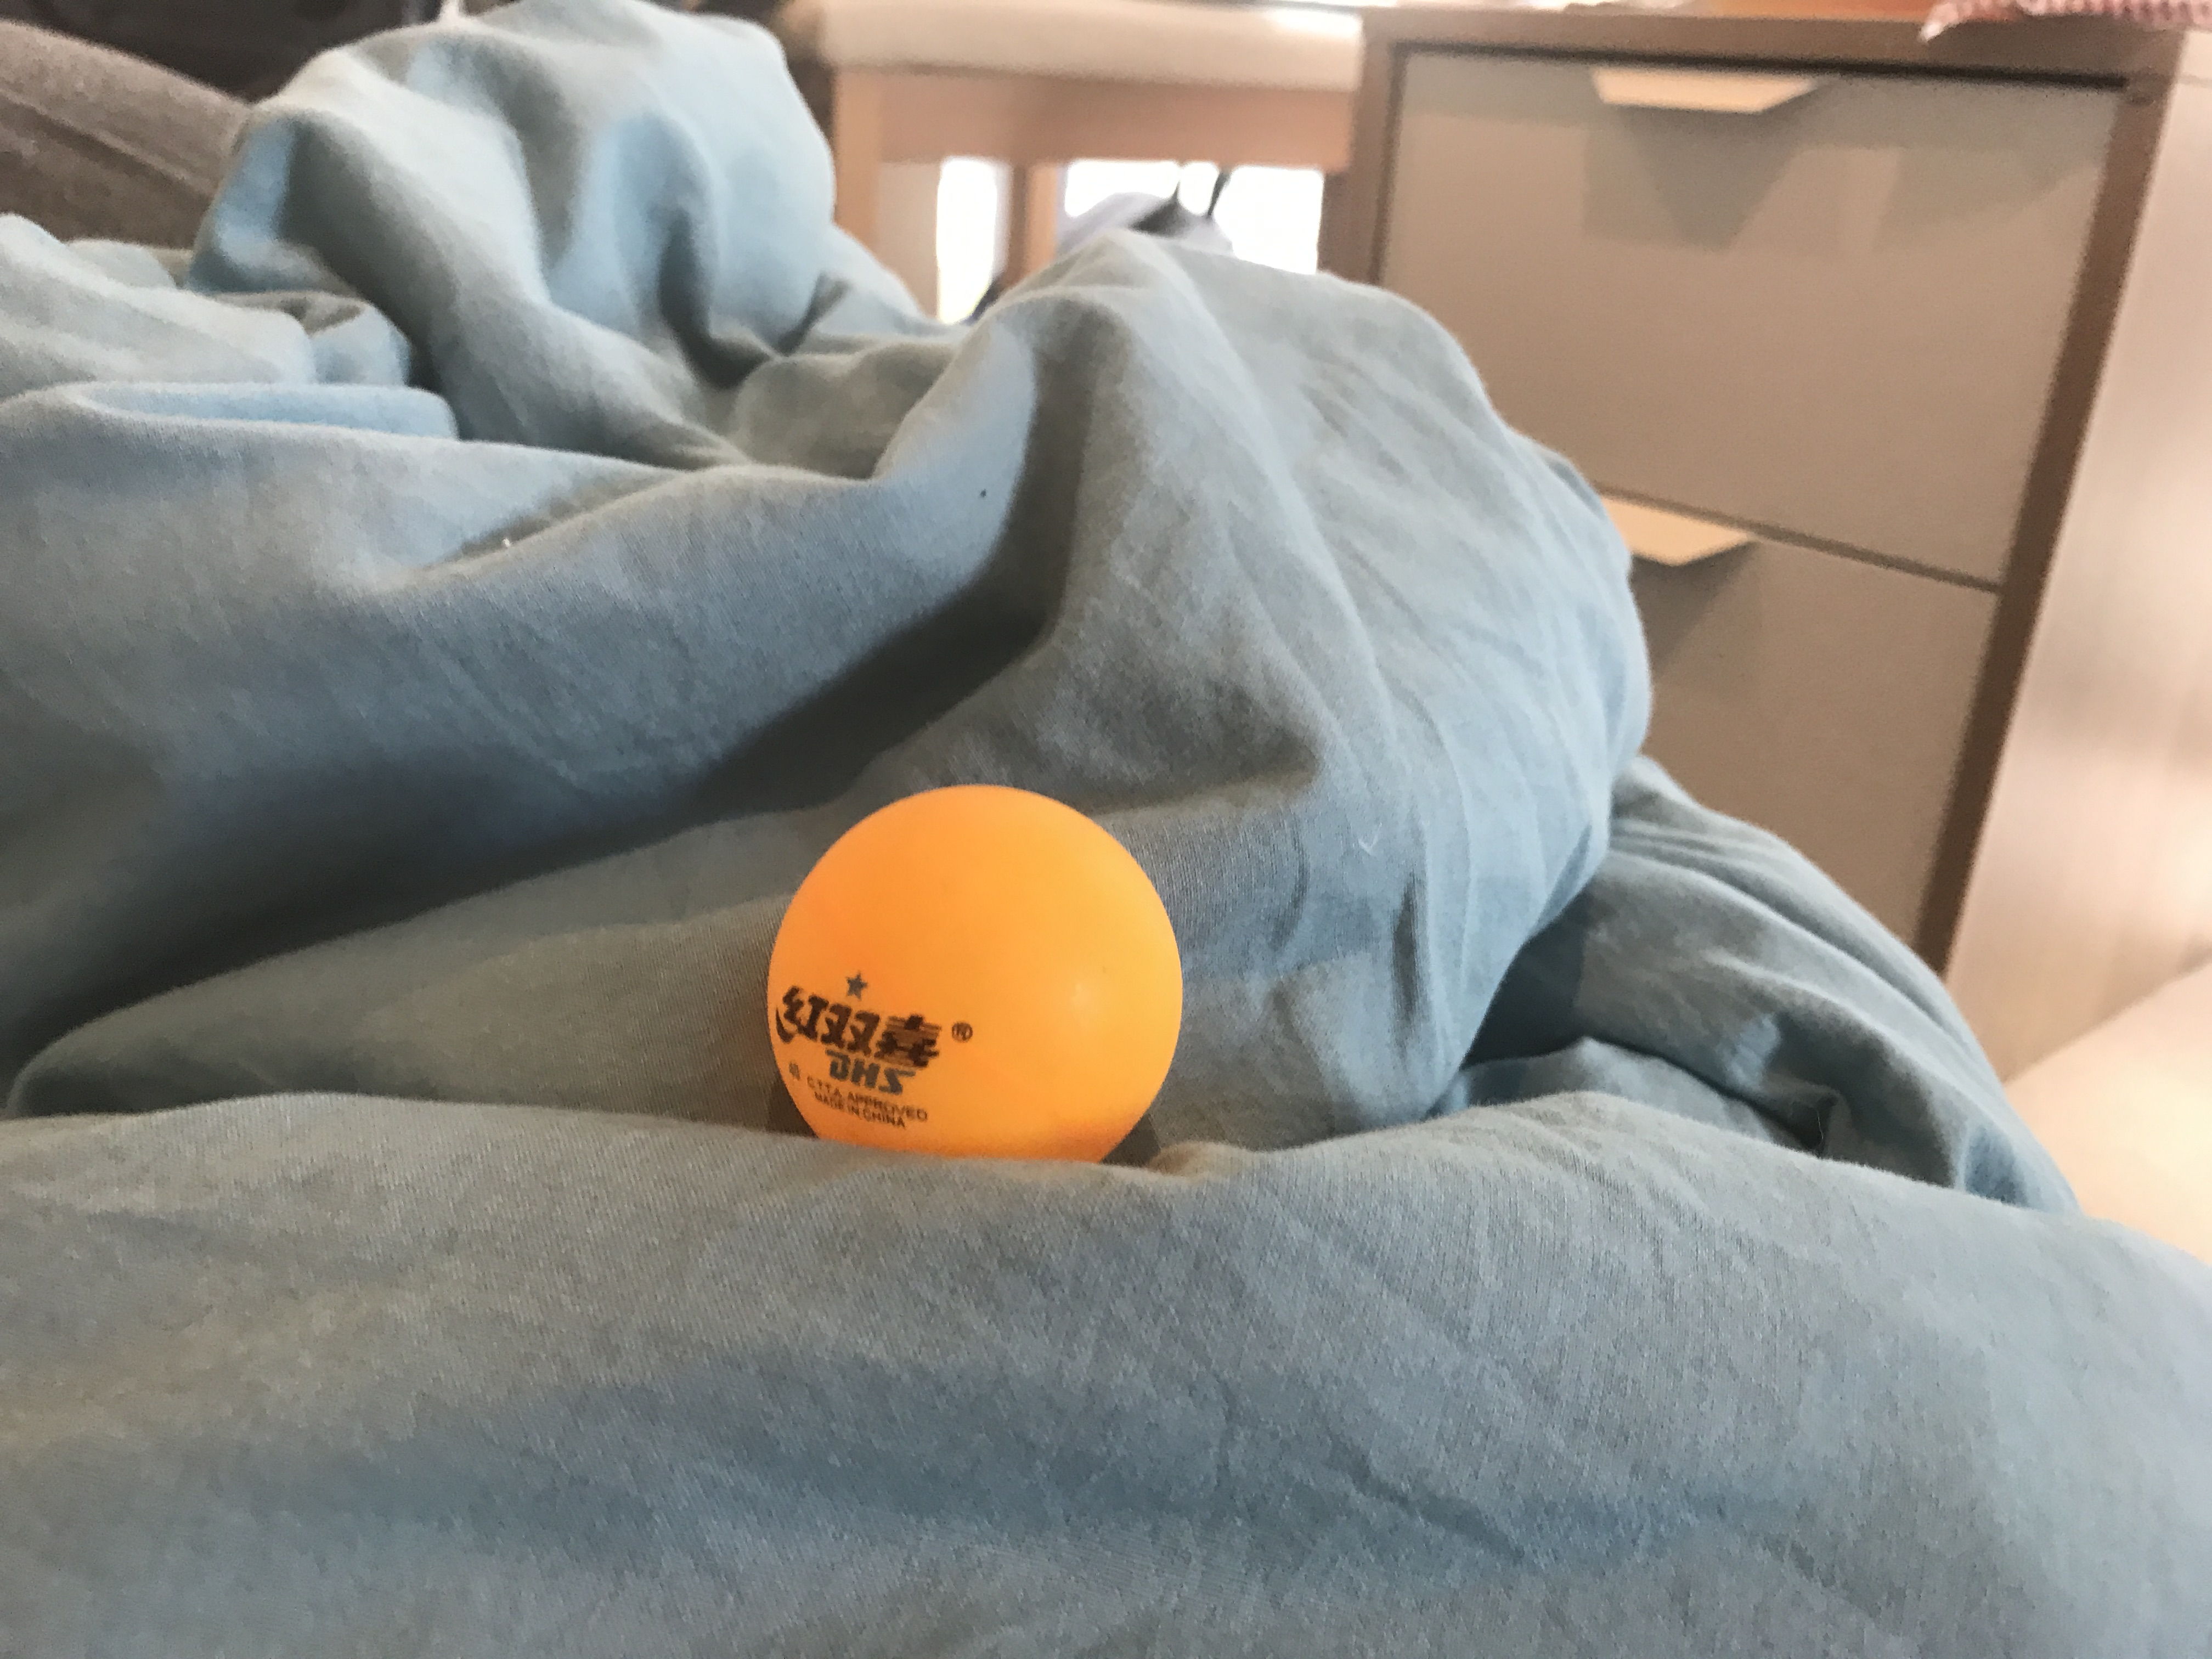pp: (749, 779, 1198, 1164)
